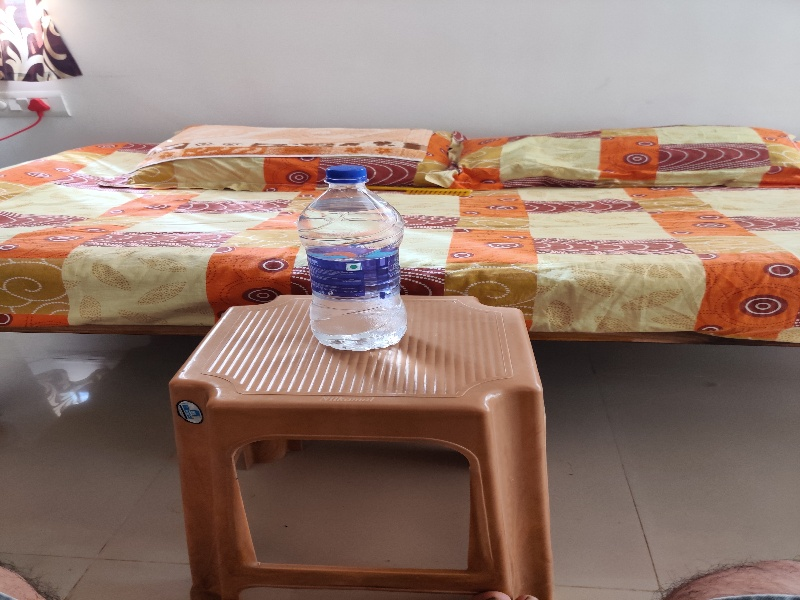bottle: (288, 158, 421, 358)
